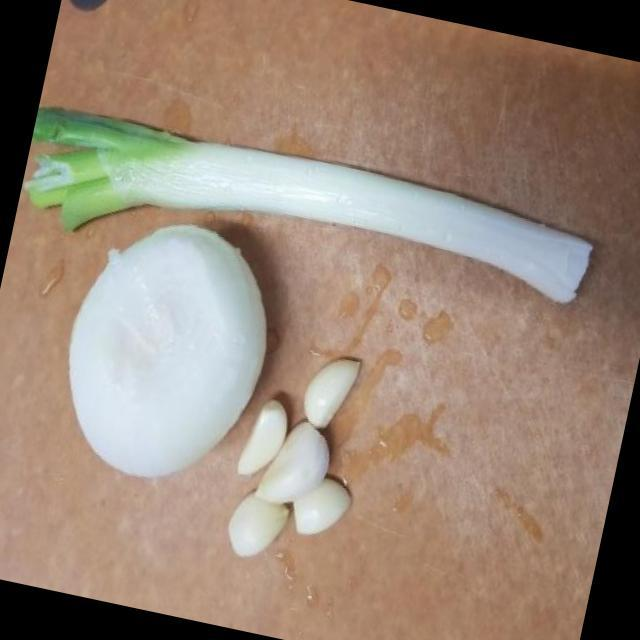Onion: (67, 221, 266, 482)
